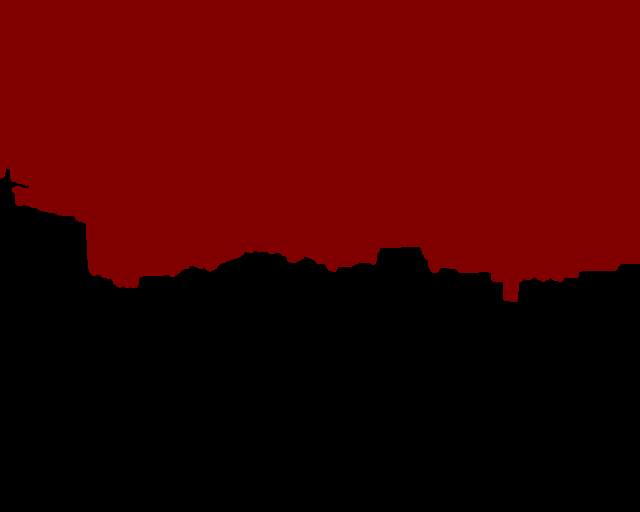Sky: (1, 1, 639, 301)
